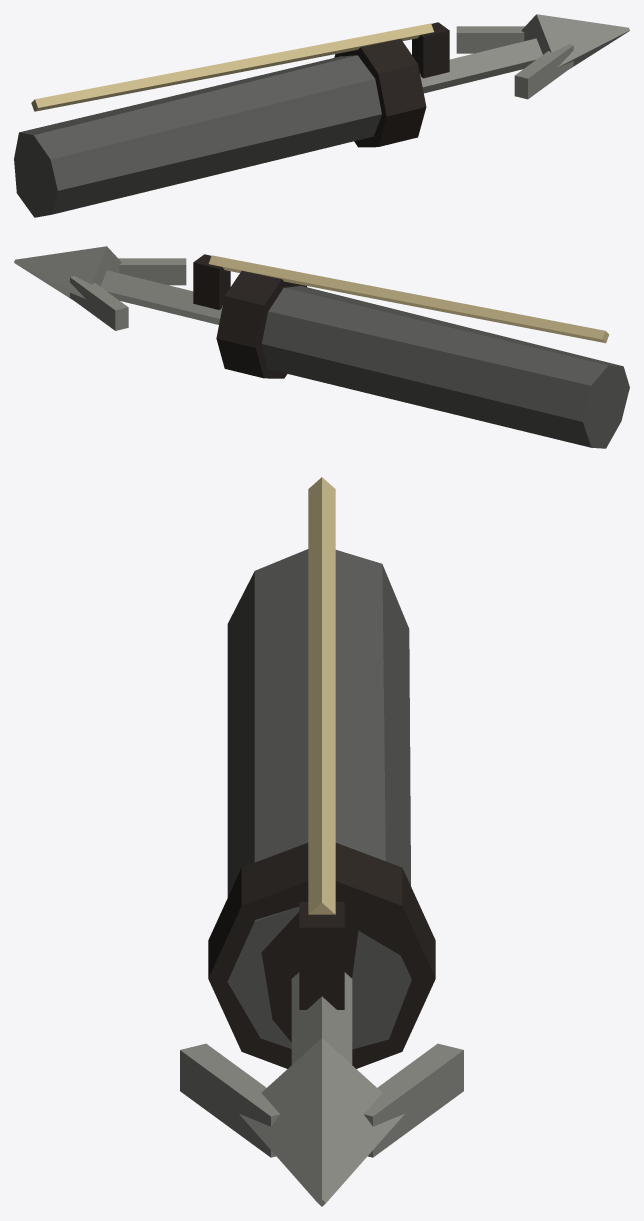
The model's file is wbar_harpoon.glb.
3 renders of one model, top to bottom at view 1: azimuth 30°, elevation 25°; view 2: azimuth 150°, elevation 25°; view 3: azimuth 270°, elevation 25°, orthographic. The views are drawn at different scales.
Parts seen in each view (by area): view 1: wbar_harpoon; view 2: wbar_harpoon; view 3: wbar_harpoon.
Boxes of the visible parts, left/top/right/bottom form: wbar_harpoon: left=14, top=14, right=629, bottom=217; wbar_harpoon: left=14, top=246, right=629, bottom=448; wbar_harpoon: left=180, top=477, right=463, bottom=1206.
Size of the model in its own units: 0.9026 by 0.184 by 0.1873.
